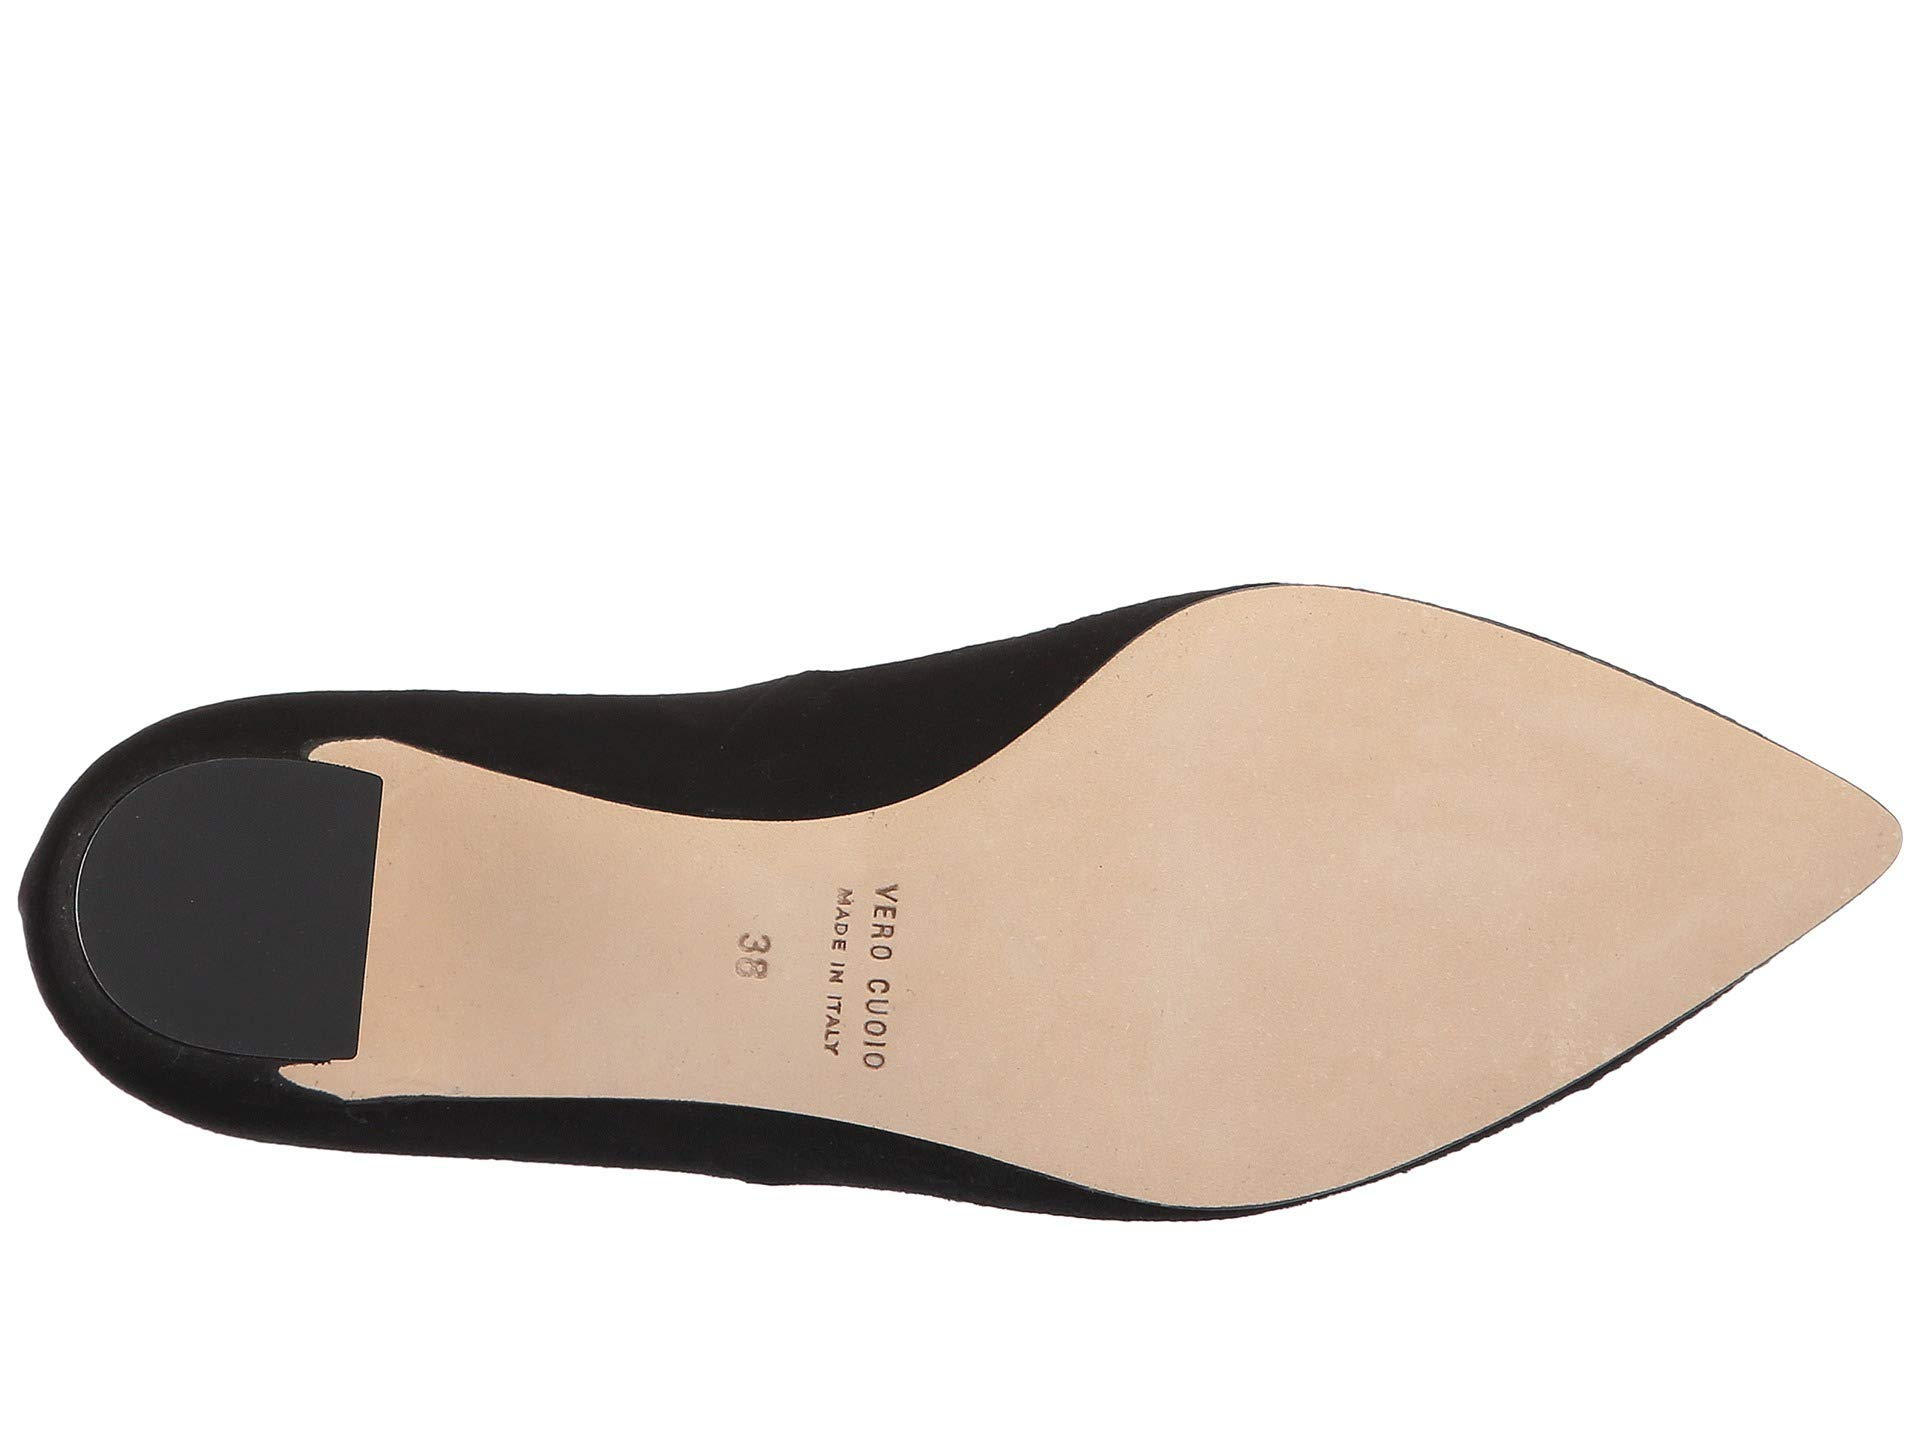text: (686, 826, 925, 1083)
